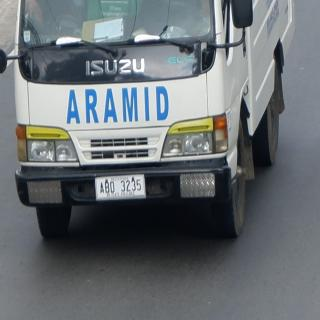license: (96, 175, 147, 202)
